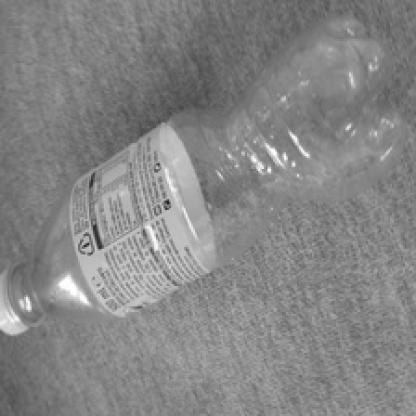plastic_bottles: (0, 15, 400, 383)
